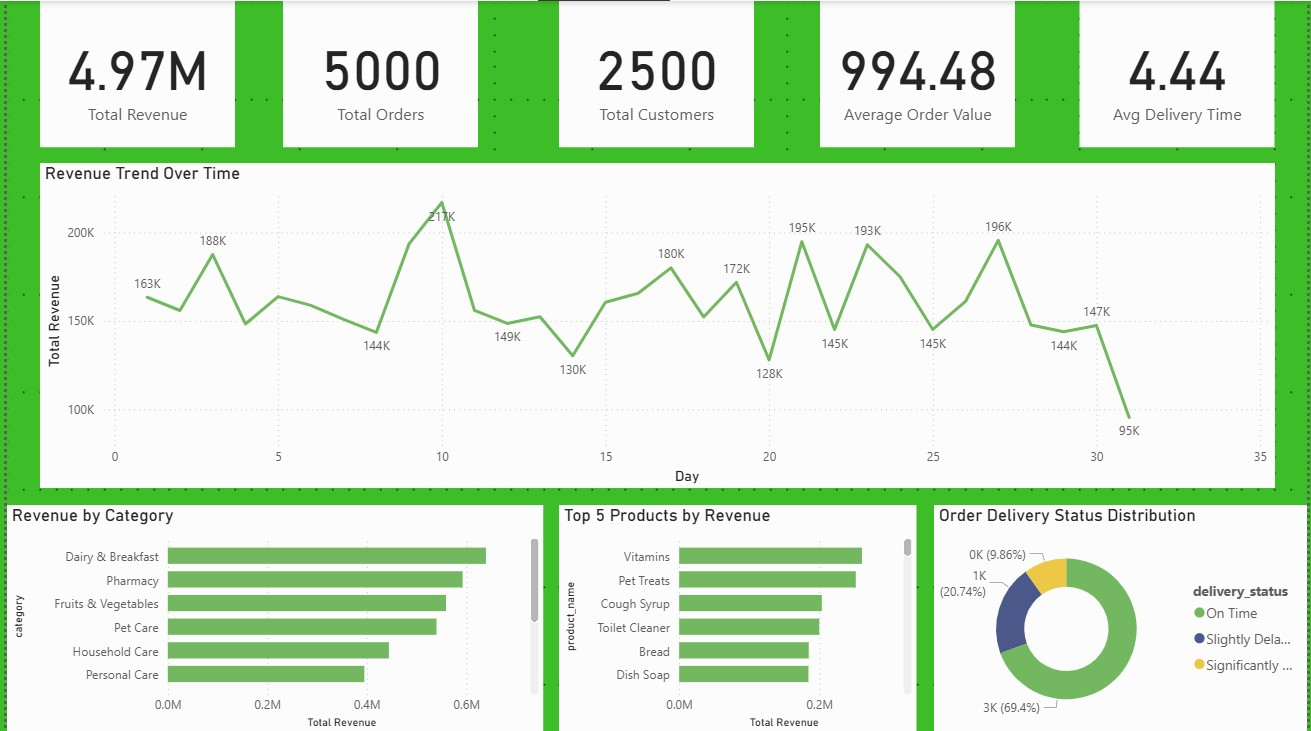

The dashboard page shown, as its layout file describes it:
{"tool":"powerbi","page":{"name":"Executive Page","canvas":[1280,720],"ordinal":0},"visuals":[{"type":"card","fields":{"Values":["Measures (2).Total Revenue"]},"box":[32,0,192,144],"z":0},{"type":"card","fields":{"Values":["Measures (2).Total Orders"]},"box":[272,0,192,144],"z":1000},{"type":"card","fields":{"Values":["Measures (2).Total Customers"]},"box":[544,0,192,144],"z":2000},{"type":"card","fields":{"Values":["Measures (2).Average Order Value"]},"box":[800,0,192,144],"z":3000},{"type":"card","fields":{"Values":["Measures (2).Avg Delivery Time"]},"box":[1056,0,192,144],"z":4000},{"type":"lineChart","title":"Revenue Trend Over Time","fields":{"Category":["blinkit_orders.order_date.Variation.Date Hierarchy.Day"],"Y":["Measures (2).Total Revenue"]},"box":[32,160,1216,320],"z":5000},{"type":"barChart","title":"Revenue by Category","fields":{"Category":["blinkit_products.category"],"Y":["Measures (2).Total Revenue"]},"box":[0,496,528,224],"z":6000},{"type":"donutChart","title":"Order Delivery Status Distribution","fields":{"Category":["blinkit_orders.delivery_status"],"Y":["Measures (2).Total Orders"]},"box":[912,496,368,224],"z":8000},{"type":"barChart","title":"Top 5 Products by Revenue","fields":{"Category":["blinkit_products.product_name"],"Y":["Measures (2).Total Revenue"]},"box":[544,496,352,224],"z":8001}]}

Visuals, with their boxes in screenshot pixels (x1, y1, x2, y2), scaled from the page's 1280x720 canvas onto the 1311x731 screenshot:
card - Measures (2).Total Revenue: BBox(33, 0, 229, 146)
card - Measures (2).Total Orders: BBox(279, 0, 475, 146)
card - Measures (2).Total Customers: BBox(557, 0, 754, 146)
card - Measures (2).Average Order Value: BBox(819, 0, 1016, 146)
card - Measures (2).Avg Delivery Time: BBox(1082, 0, 1278, 146)
"Revenue Trend Over Time" lineChart: BBox(33, 162, 1278, 487)
"Revenue by Category" barChart: BBox(0, 504, 541, 730)
"Order Delivery Status Distribution" donutChart: BBox(934, 504, 1310, 730)
"Top 5 Products by Revenue" barChart: BBox(557, 504, 918, 730)
